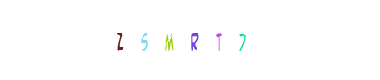7: (202, 0, 282, 80)
M: (136, 0, 216, 80)
R: (150, 0, 230, 80)
S: (129, 0, 209, 80)
T: (153, 0, 233, 80)
Z: (80, 0, 160, 80)
